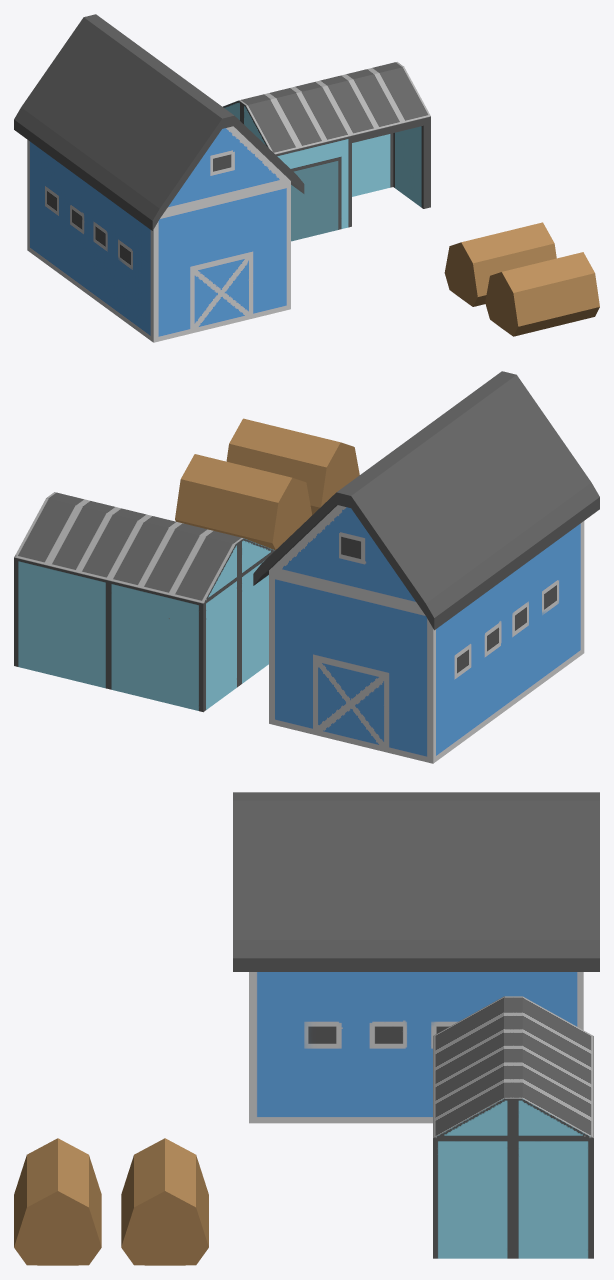
The model's file is FarmB_noGround.fbx.
3 renders of one model, top to bottom at view 1: azimuth 30°, elevation 25°; view 2: azimuth 150°, elevation 25°; view 3: azimuth 270°, elevation 25°, orthographic. The views are drawn at different scales.
Visible parts, largest first — view 1: Farm B; view 2: Farm B; view 3: Farm B.
Boxes of the visible parts, x1,y1,x2,y2 form: Farm B: (14, 14, 599, 342); Farm B: (14, 371, 599, 763); Farm B: (14, 792, 599, 1265).
Size of the model in its own units: 372 by 208 by 391.
